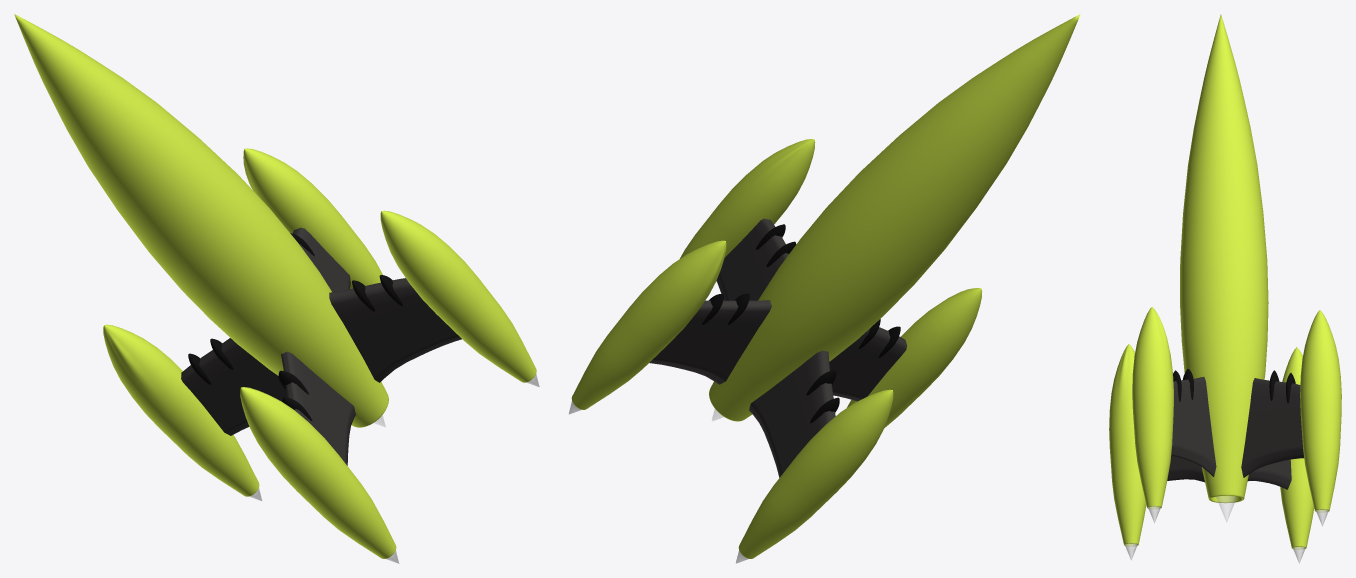
3 renders of one model, left to right at view 1: azimuth 30°, elevation 25°; view 2: azimuth 150°, elevation 25°; view 3: azimuth 270°, elevation 25°, orthographic. The views are drawn at different scales.
Parts seen in each view (by area): view 1: Cone001; view 2: Cone001; view 3: Cone001.
Boxes of the visible parts, left/top/right/bottom form: Cone001: left=14, top=14, right=539, bottom=563; Cone001: left=568, top=14, right=1080, bottom=563; Cone001: left=1109, top=14, right=1341, bottom=563.
Size of the model in its own units: 218 by 260 by 124.
